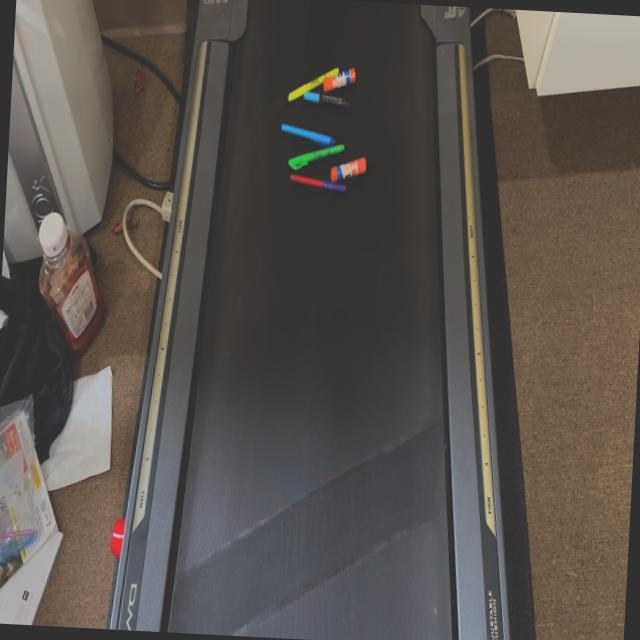Trash: (276, 64, 372, 200)
